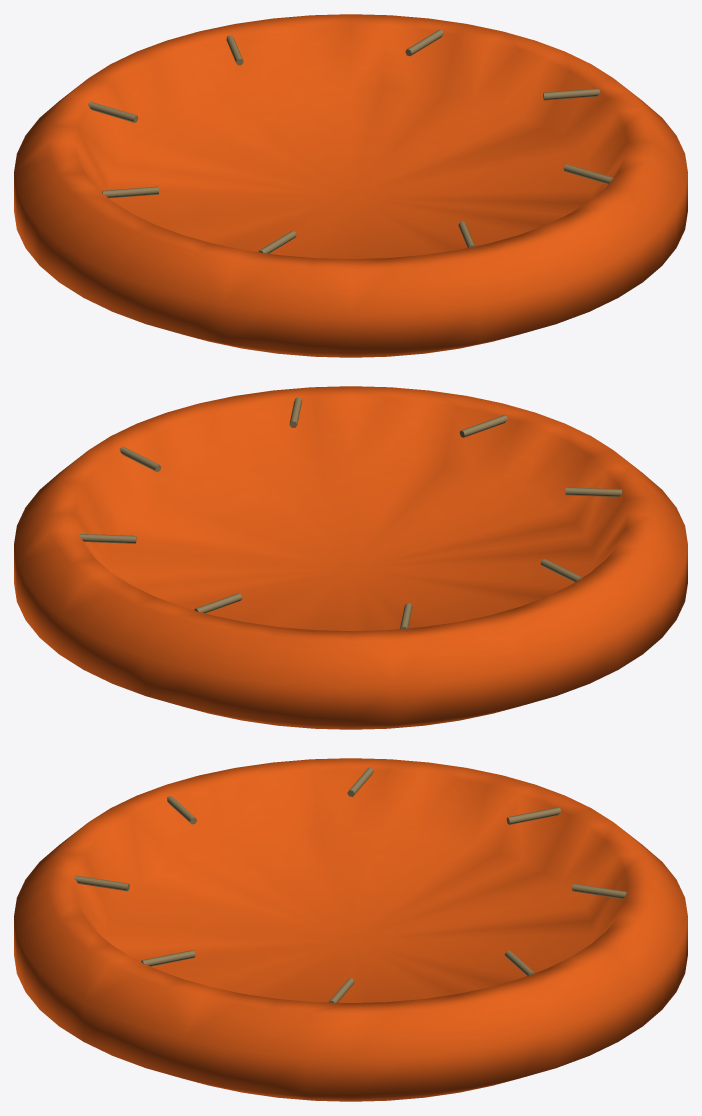
File: DebrisFrisbee.gltf
3 renders of one model, top to bottom at view 1: azimuth 30°, elevation 25°; view 2: azimuth 150°, elevation 25°; view 3: azimuth 270°, elevation 25°, orthographic.
Parts seen in each view (by area): view 1: DebrisFrisbee__Body; view 2: DebrisFrisbee__Body; view 3: DebrisFrisbee__Body.
Boxes of the visible parts, x1,y1,x2,y2 form: DebrisFrisbee__Body: [14, 14, 687, 357]; DebrisFrisbee__Body: [14, 386, 687, 729]; DebrisFrisbee__Body: [14, 758, 687, 1101].
Bounding box in the file's own units: 0.28 × 0.0448 × 0.28.
1 material, 1 textured.
